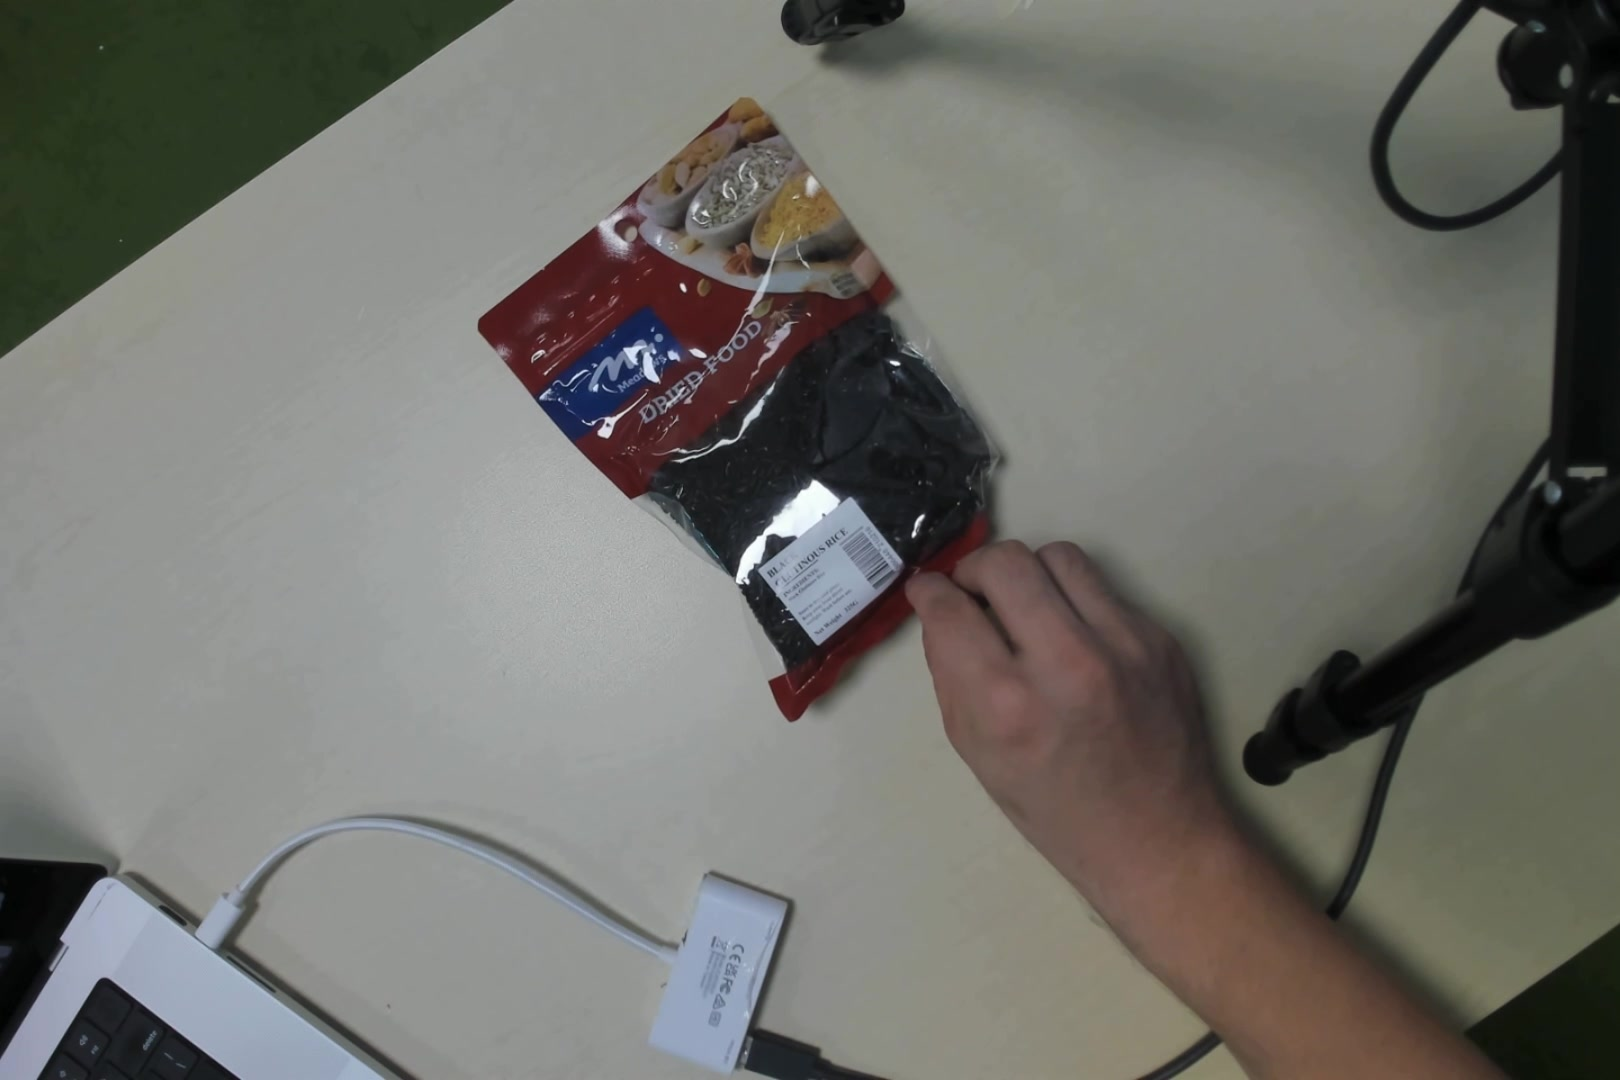OtherDriedFood_100-199g_NonHalal_NonHealthy: (570, 162, 984, 655)
